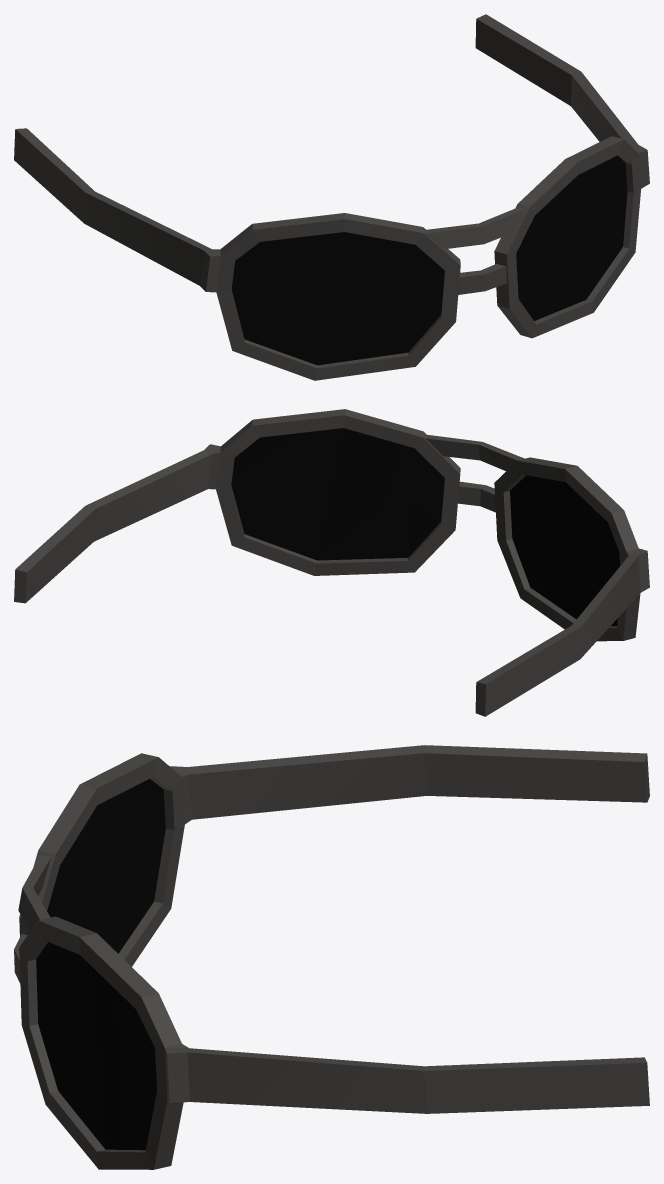
Rendered from Glasses_03_SM.FBX.
3 views of the same model, one above another, from view 1: azimuth 30°, elevation 25°; view 2: azimuth 150°, elevation 25°; view 3: azimuth 270°, elevation 25° (orthographic). The views are drawn at different scales.
Visible parts, largest first — view 1: Glasses_03_SM; view 2: Glasses_03_SM; view 3: Glasses_03_SM.
Boxes of the visible parts, x1,y1,x2,y2 form: Glasses_03_SM: (14,14,649,380); Glasses_03_SM: (14,409,649,716); Glasses_03_SM: (14,745,649,1169).
Size of what is drawn, in the model's own units: 19.44 by 16.03 by 6.04.
